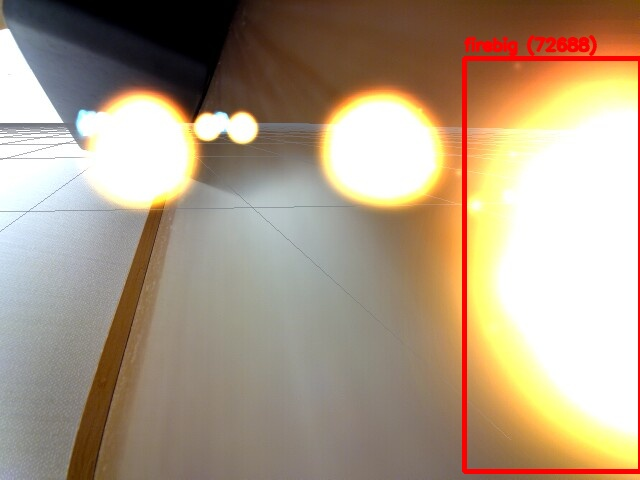firebig: (464, 58, 640, 471)
